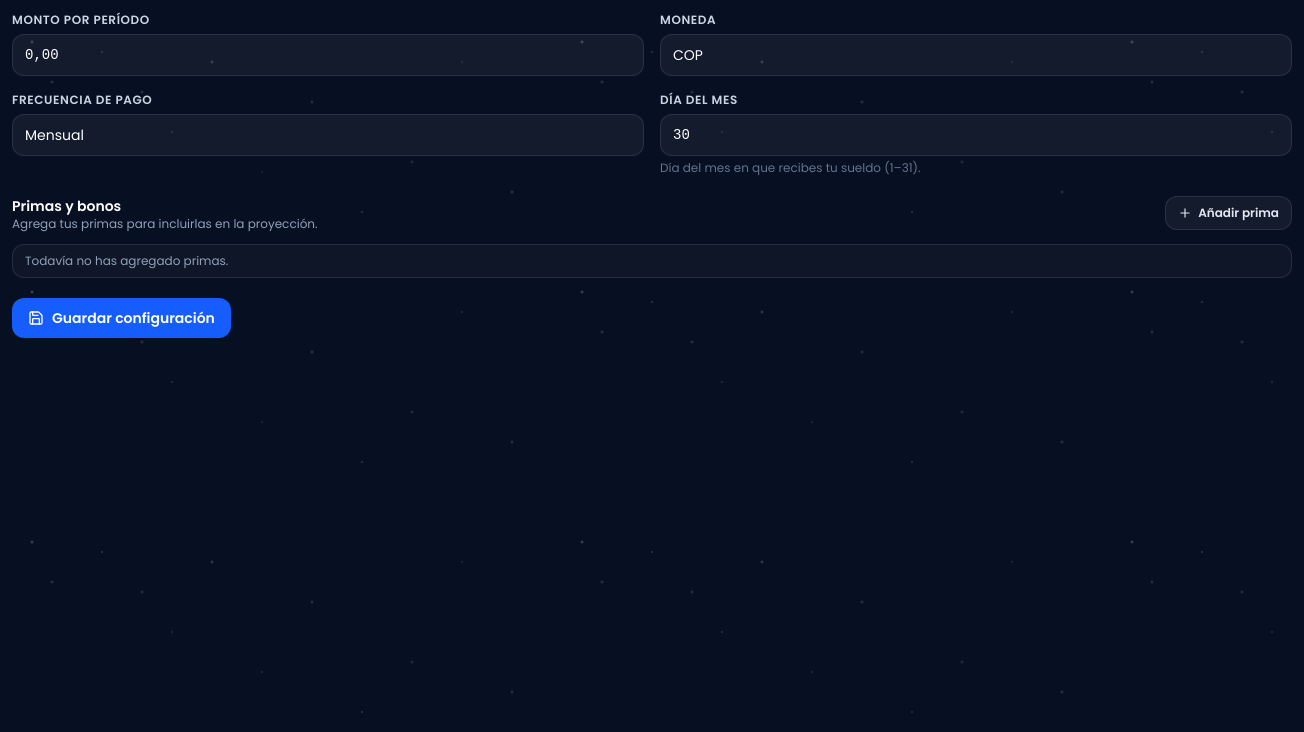
SalaryForm › switches to WEEKLY with a single ISO weekday select
This screenshot has width=1304, height=732.
Select "Semanal" in the dropdown labelled "Frecuencia de pago": (328, 135) [12,114,644,156]
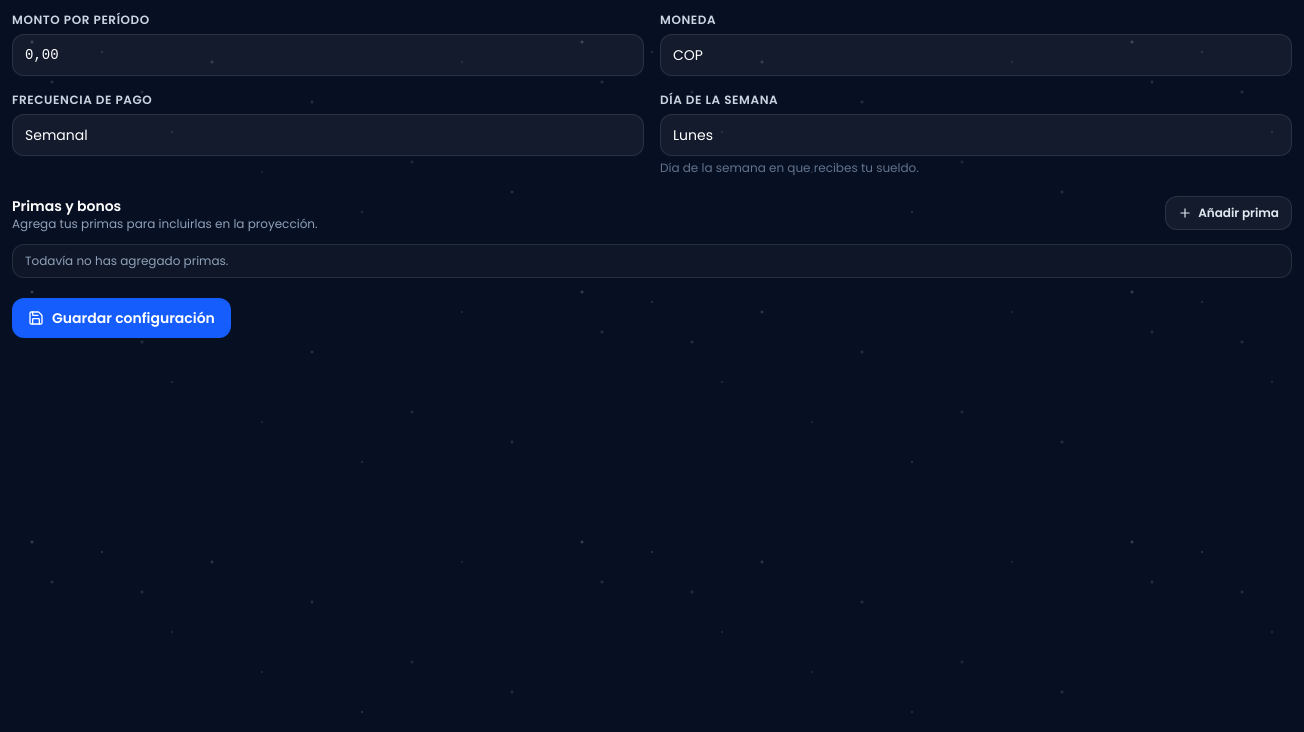
Now the dropdown labelled "Día de la semana" shows "Lunes", box [660,114,1292,156]
Now the label labelled "Día del mes" is gone
